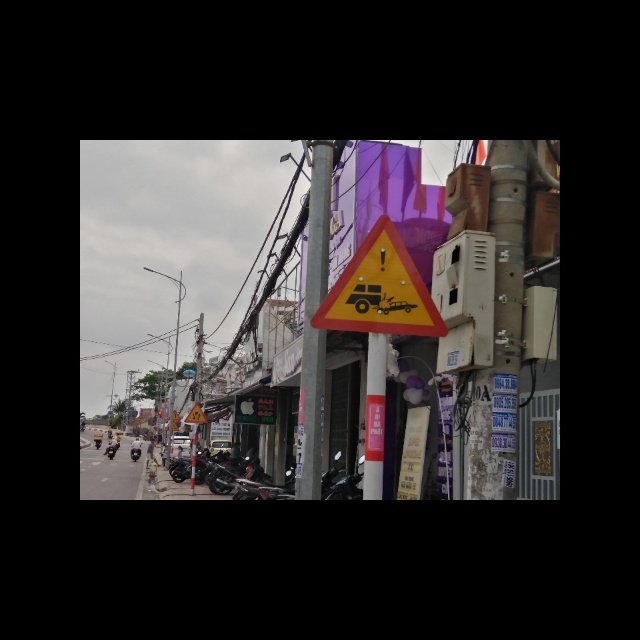Đoạn đường hay xảy ra tai nạn: (309, 213, 453, 335)
Đường đôi: (182, 400, 208, 424)
